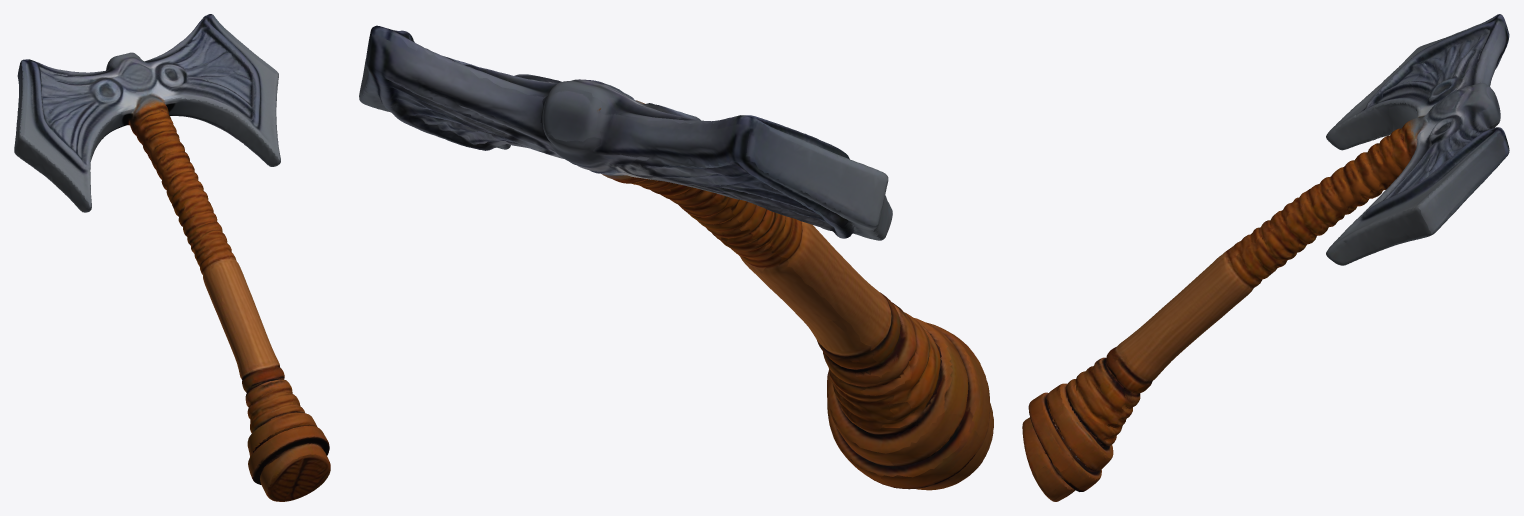
File: axe.fbx
3 renders of one model, left to right at view 1: azimuth 30°, elevation 25°; view 2: azimuth 150°, elevation 25°; view 3: azimuth 270°, elevation 25°, orthographic. The views are drawn at different scales.
Parts seen in each view (by area): view 1: tmp0xg8_7ts.ply; view 2: tmp0xg8_7ts.ply; view 3: tmp0xg8_7ts.ply.
Boxes of the visible parts, box(x1,y1,x2,y2) form: tmp0xg8_7ts.ply: box(14, 14, 330, 501); tmp0xg8_7ts.ply: box(359, 25, 993, 490); tmp0xg8_7ts.ply: box(1022, 14, 1509, 501).
Bounding box in the file's own units: 156 × 192 × 200.
1 material, 1 textured.
